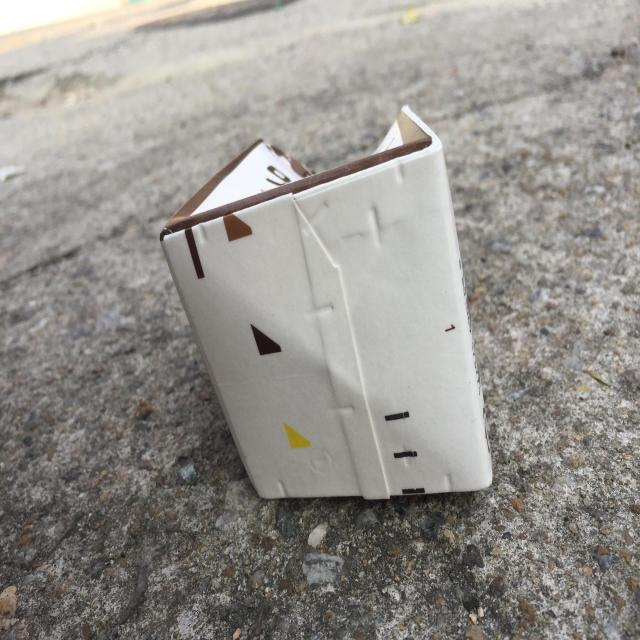paperpack: (160, 105, 493, 500)
